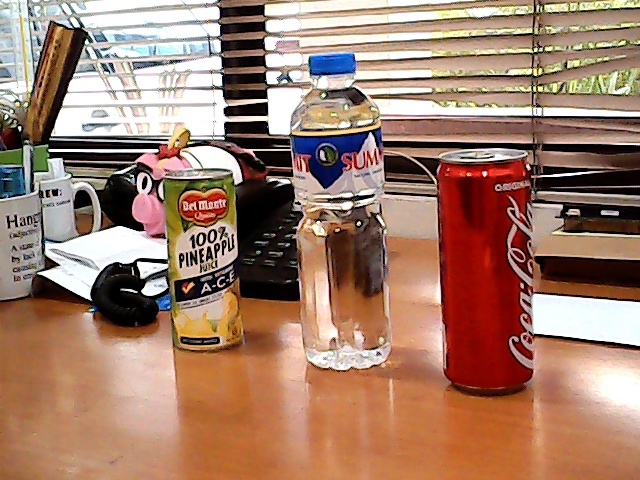Cola: (427, 140, 548, 404)
Pine Juice: (153, 155, 256, 365)
Summit Water: (280, 47, 409, 377)
